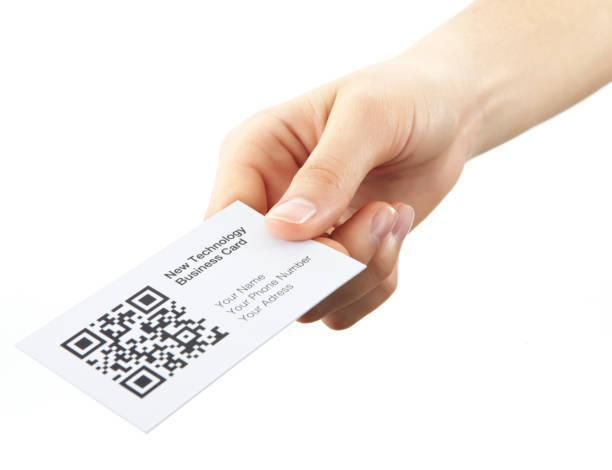qr_code: (60, 285, 230, 399)
